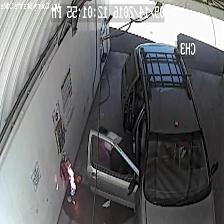fire: (64, 163, 79, 197)
